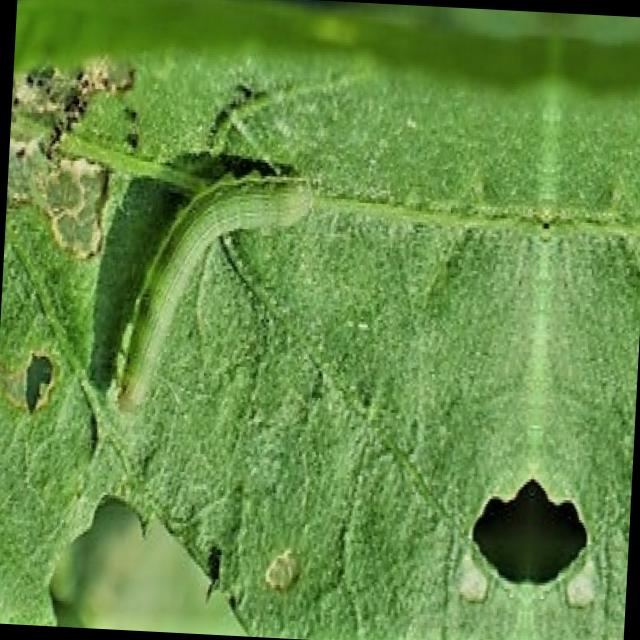Armyworm: (93, 110, 322, 453)
Armyworm_damage: (465, 452, 605, 609), (9, 329, 72, 449)
